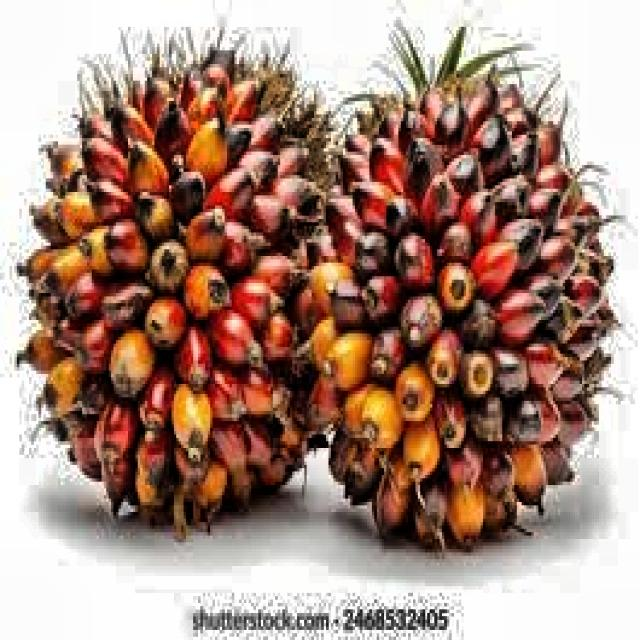FFB: (25, 33, 332, 522), (324, 71, 604, 556)
